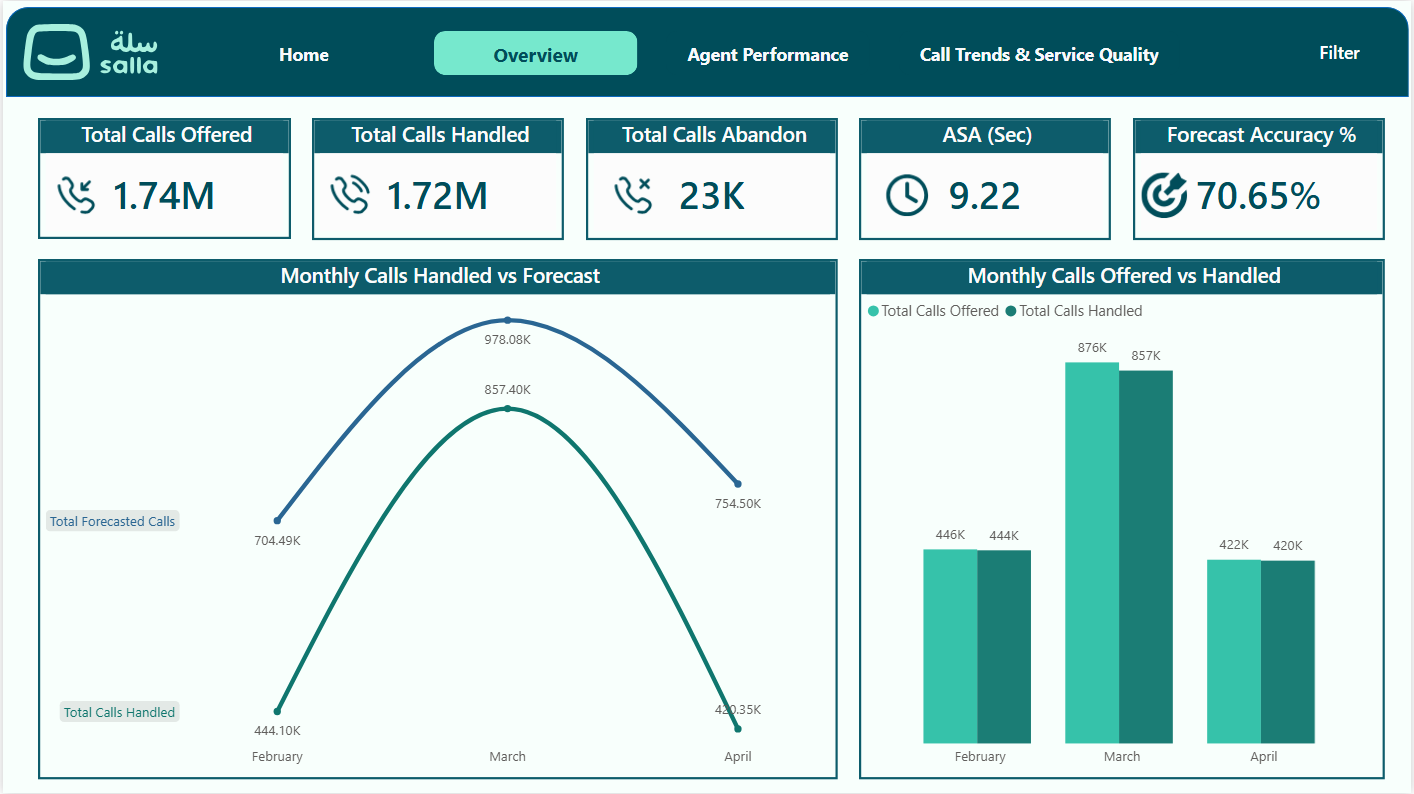

Layout of this report page (visuals, bound fields, positions):
{"tool":"powerbi","page":{"name":"Overview","canvas":[1280,720],"ordinal":1},"visuals":[{"type":"shape","box":[2.3,5.8,1275.4,81.8],"z":0},{"type":"image","box":[18.4,0,123.3,92.2],"z":1000},{"type":"actionButton","box":[181.1,27.6,185,40.1],"z":2000},{"type":"actionButton","box":[392.1,27.6,185,40.1],"z":3000},{"type":"actionButton","box":[603.1,27.6,185,40.1],"z":4000},{"type":"actionButton","box":[814.2,27.6,255,40.1],"z":5000},{"type":"cardVisual","title":"Total Calls Offered","fields":{"Data":["Measure.Total Calls Offered"]},"box":[31.8,106.4,230,110],"z":6000},{"type":"cardVisual","title":"Total Calls Handled","fields":{"Data":["Measure.Total Calls Handled"]},"box":[281,106.4,229.5,110.6],"z":7000},{"type":"cardVisual","title":"Total Calls Abandon","fields":{"Data":["Measure.Total Calls Abandon"]},"box":[529.7,106.4,229.5,110.6],"z":8000},{"type":"cardVisual","title":"ASA (Sec)","fields":{"Data":["Measure.ASA"]},"box":[778.4,106.4,229.5,110.6],"z":9000},{"type":"lineChart","title":"Monthly Calls Handled vs Forecast","fields":{"Category":["Calendar.Month Name"],"Y":["Measure.Total Calls Handled","Measure.Total Forecasted Calls"]},"box":[31.8,235,727.1,472.7],"z":10000},{"type":"clusteredColumnChart","title":"Monthly Calls Offered vs Handled","fields":{"Category":["Calendar.Month Name"],"Y":["Measure.Total Calls Offered","Measure.Total Calls Handled"]},"box":[778.2,235,478.3,472.7],"z":11000},{"type":"cardVisual","title":"Forecast Accuracy %","fields":{"Data":["Measure.Forecast Attainment %"]},"box":[1027,106.4,229.5,110.6],"z":12000},{"type":"actionButton","box":[1030.5,151.9,172.1,49.5],"z":13000},{"type":"actionButton","box":[797.6,151.9,163.1,49.5],"z":13500},{"type":"actionButton","box":[290.2,151.9,75.4,49.5],"z":13750},{"type":"actionButton","box":[547.9,151.9,153,49.5],"z":13875},{"type":"actionButton","box":[41.6,151.9,75.4,49.5],"z":13937},{"type":"actionButton","box":[1164.6,30.4,100.8,32.8],"z":18000}]}

Visuals, with their boxes in screenshot pixels (x1, y1, x2, y2), scaled from the page's 1280x720 canvas onto the 1414x794 screenshot:
shape: x1=3 y1=6 x2=1411 y2=97
image: x1=20 y1=0 x2=157 y2=102
actionButton: x1=200 y1=30 x2=404 y2=75
actionButton: x1=433 y1=30 x2=638 y2=75
actionButton: x1=666 y1=30 x2=871 y2=75
actionButton: x1=899 y1=30 x2=1181 y2=75
"Total Calls Offered" cardVisual: x1=35 y1=117 x2=289 y2=239
"Total Calls Handled" cardVisual: x1=310 y1=117 x2=564 y2=239
"Total Calls Abandon" cardVisual: x1=585 y1=117 x2=839 y2=239
"ASA (Sec)" cardVisual: x1=860 y1=117 x2=1113 y2=239
"Monthly Calls Handled vs Forecast" lineChart: x1=35 y1=259 x2=838 y2=780
"Monthly Calls Offered vs Handled" clusteredColumnChart: x1=860 y1=259 x2=1388 y2=780
"Forecast Accuracy %" cardVisual: x1=1135 y1=117 x2=1388 y2=239
actionButton: x1=1138 y1=168 x2=1328 y2=222
actionButton: x1=881 y1=168 x2=1061 y2=222
actionButton: x1=321 y1=168 x2=404 y2=222
actionButton: x1=605 y1=168 x2=774 y2=222
actionButton: x1=46 y1=168 x2=129 y2=222
actionButton: x1=1287 y1=34 x2=1398 y2=70
